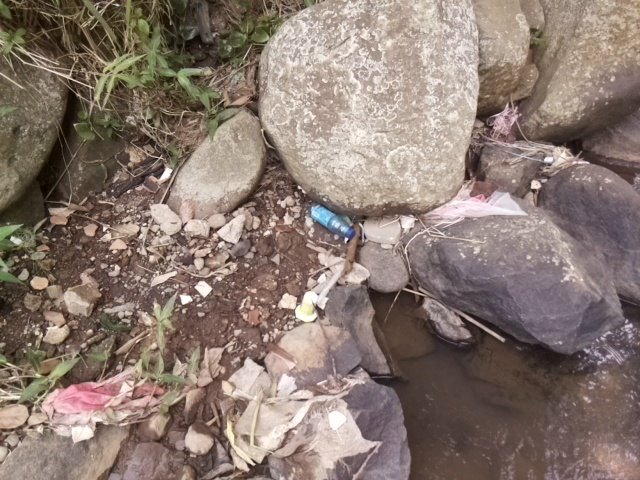Sampah_Botol_Plastik: (306, 201, 357, 239)
Sampah_Plastik: (44, 372, 159, 423), (423, 182, 528, 223), (482, 104, 521, 147)
